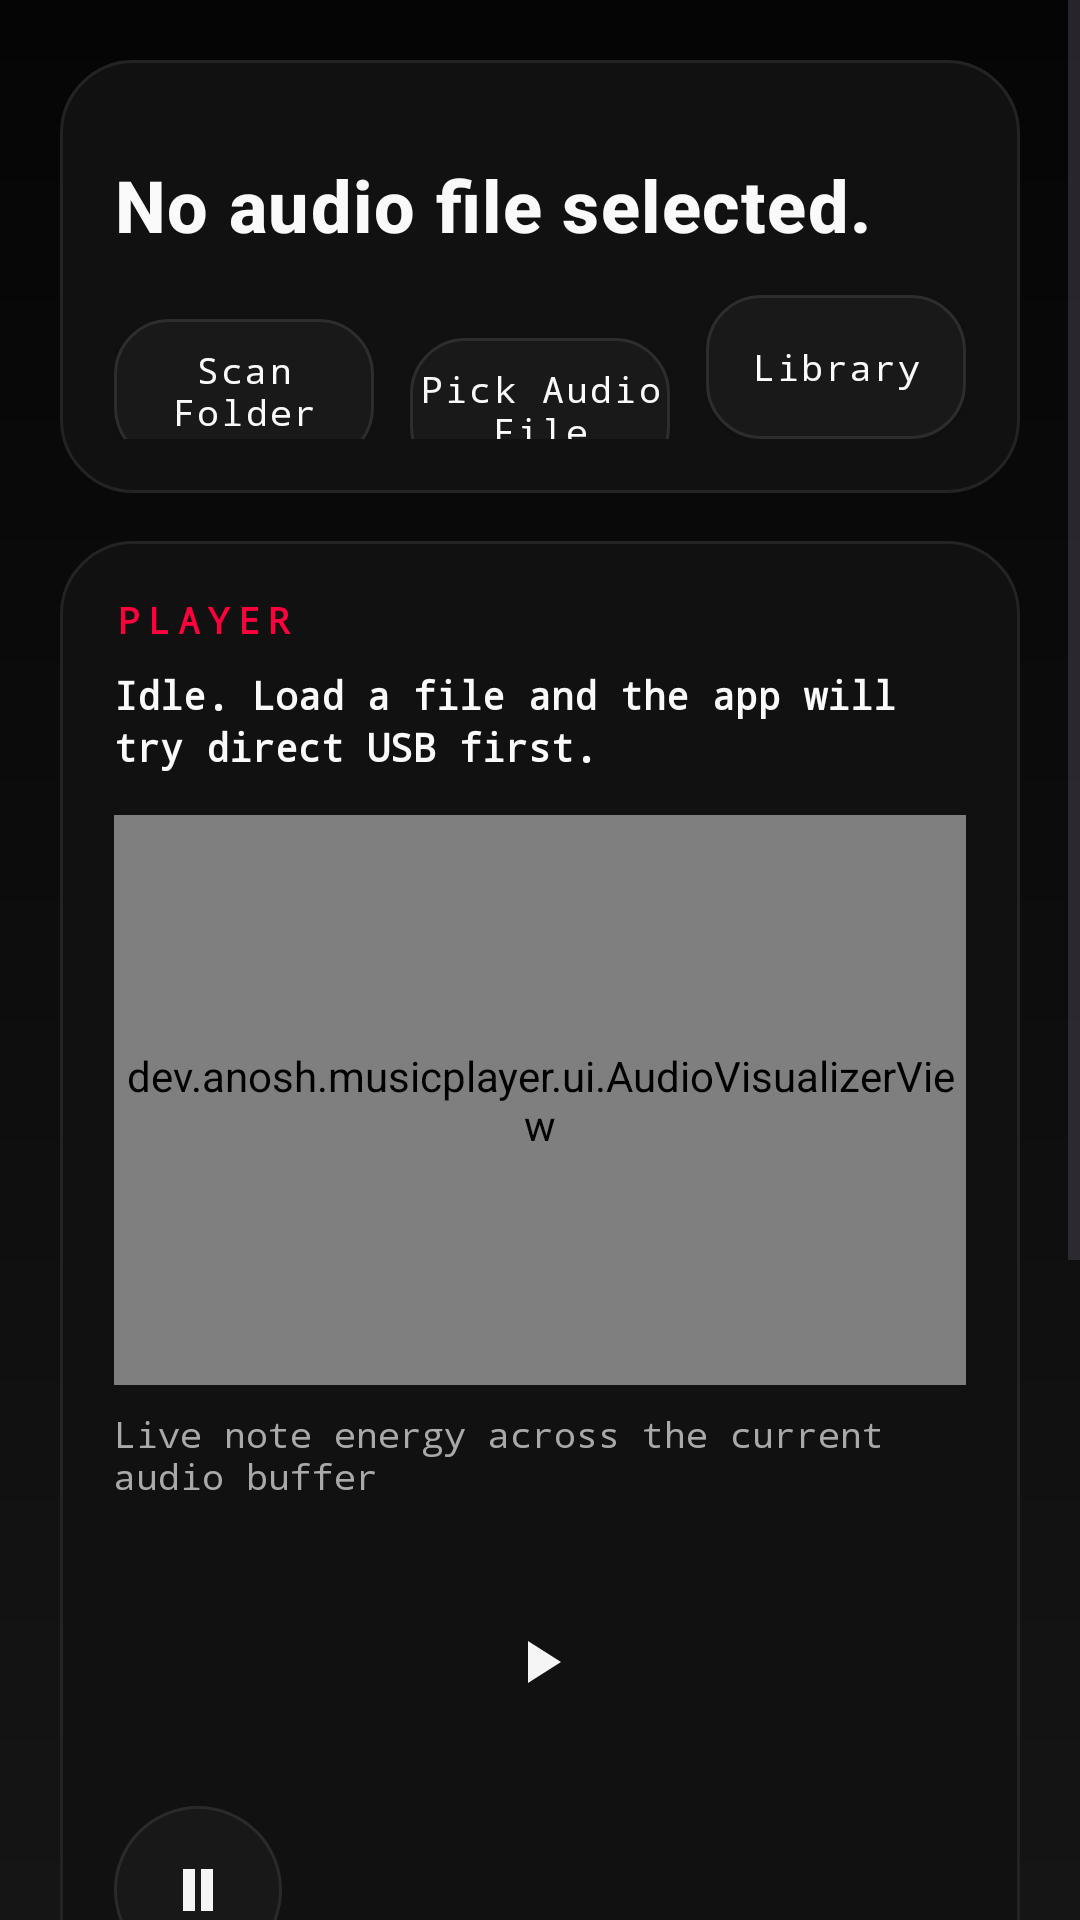

Where to tap for icons on this 1080x1920 app screen, as [x,y]:
Play: [544,1662]
